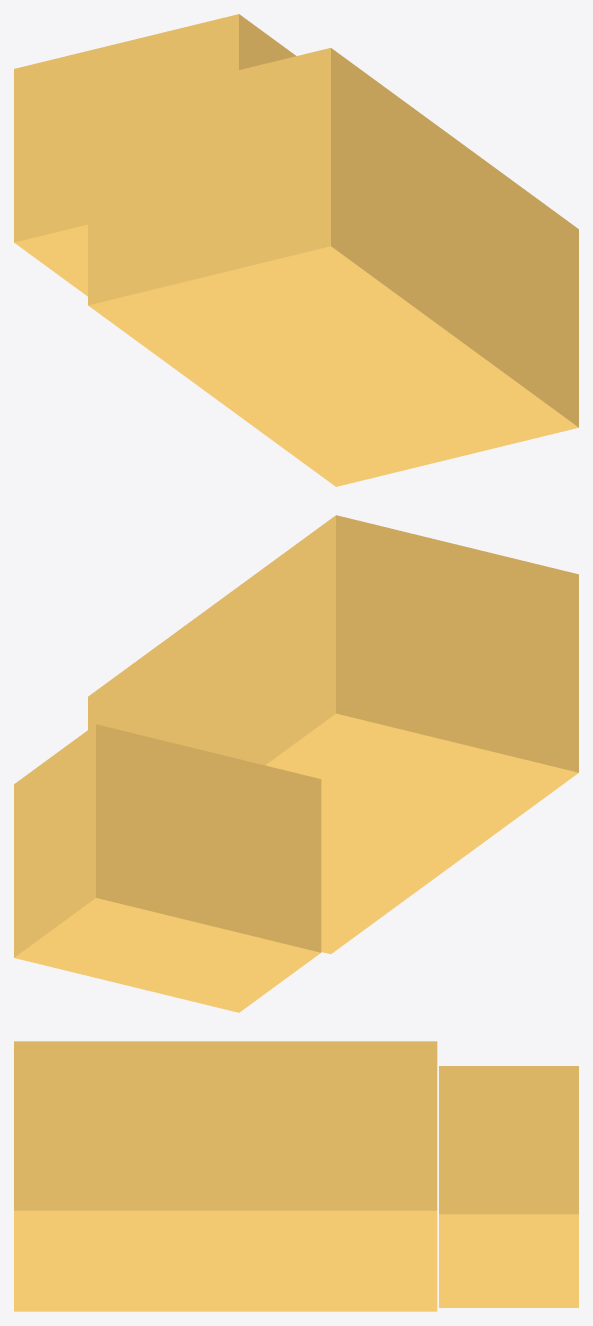
File: freight-truck.gltf
3 views of the same model, one above another, from view 1: azimuth 30°, elevation 25°; view 2: azimuth 150°, elevation 25°; view 3: azimuth 270°, elevation 25° (orthographic). The views are drawn at different scales.
Visible parts, largest first — view 1: freight-truck; view 2: freight-truck; view 3: freight-truck.
Boxes of the visible parts, x1,y1,x2,y2 form: freight-truck: (14, 14, 578, 486); freight-truck: (14, 515, 578, 1012); freight-truck: (14, 1041, 578, 1311).
Size of the model in its own units: 0.82 by 0.64 by 1.94.
